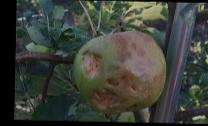rotten apple: (73, 27, 166, 115)
